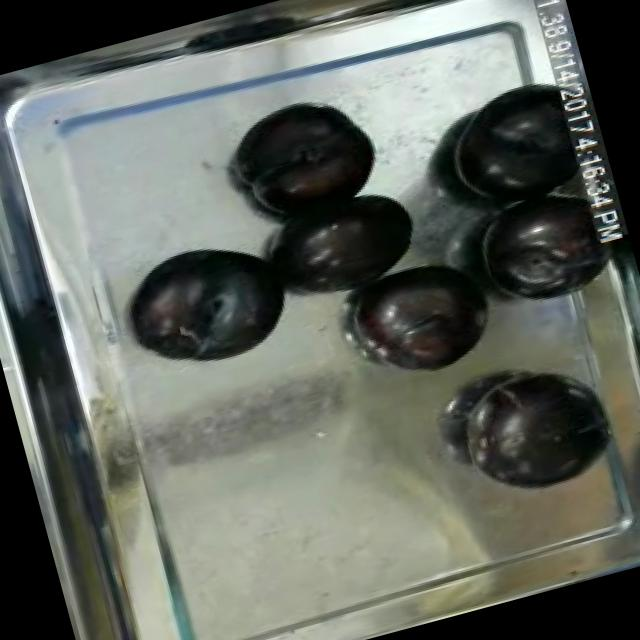Fruit: (110, 220, 308, 386), (426, 64, 605, 225), (444, 354, 618, 506), (335, 246, 505, 396), (218, 82, 388, 228)
